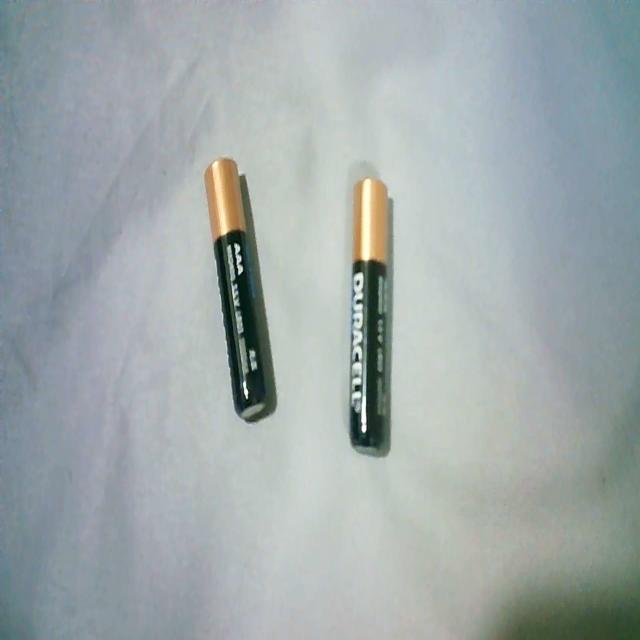AAA: (198, 148, 274, 421), (346, 166, 396, 459)
